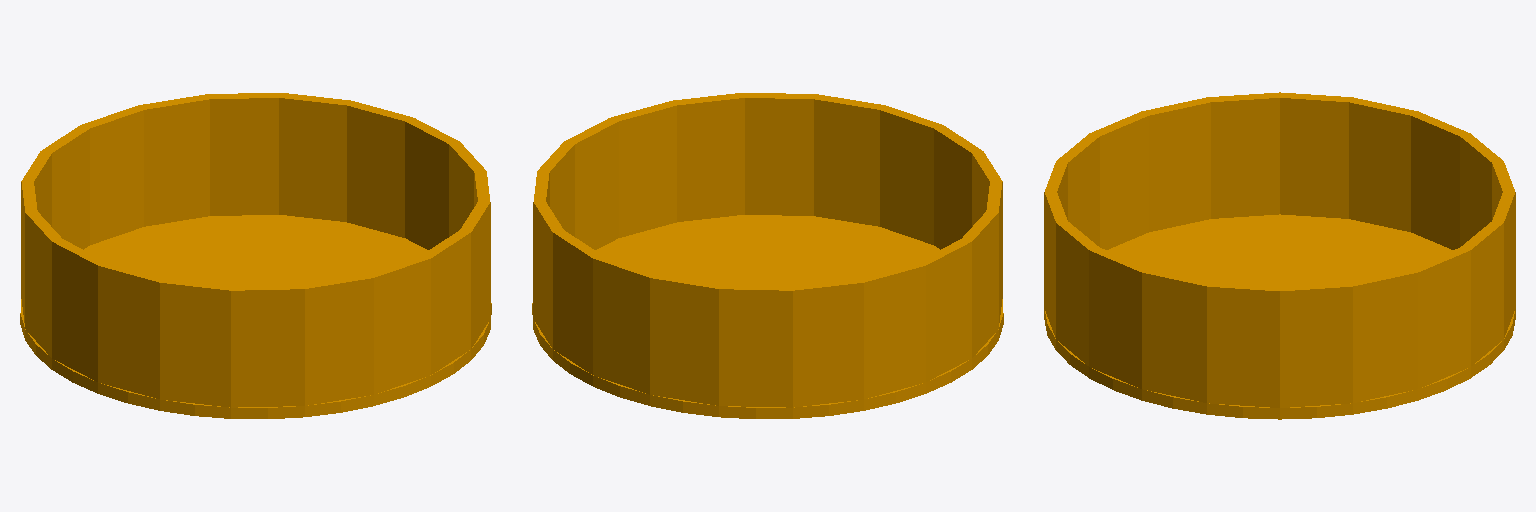
URDF robot description (placement_receiver_v0):
<?xml version='1.0' encoding='utf-8'?>
<robot name="placement_receiver_v0">
  <link name="body">
    <inertial>
      <origin xyz="1.6263032587282567e-18 -2.846030702774449e-18 0.027060295979521608" />
      <mass value="0.4" />
      <inertia ixx="0.003561407502381004" iyy="0.003561407502381005" izz="0.006486271229698463" ixy="-3.546950466627383e-21" ixz="1.2166579486212454e-19" iyz="1.6270062352837805e-20" />
    </inertial>
    <collision>
      <geometry>
        <mesh filename="part_00.obj" />
      </geometry>
    </collision>
    <collision>
      <geometry>
        <mesh filename="part_01.obj" />
      </geometry>
    </collision>
    <collision>
      <geometry>
        <mesh filename="part_02.obj" />
      </geometry>
    </collision>
    <collision>
      <geometry>
        <mesh filename="part_03.obj" />
      </geometry>
    </collision>
    <collision>
      <geometry>
        <mesh filename="part_04.obj" />
      </geometry>
    </collision>
    <collision>
      <geometry>
        <mesh filename="part_05.obj" />
      </geometry>
    </collision>
    <collision>
      <geometry>
        <mesh filename="part_06.obj" />
      </geometry>
    </collision>
    <collision>
      <geometry>
        <mesh filename="part_07.obj" />
      </geometry>
    </collision>
    <collision>
      <geometry>
        <mesh filename="part_08.obj" />
      </geometry>
    </collision>
    <collision>
      <geometry>
        <mesh filename="part_09.obj" />
      </geometry>
    </collision>
    <collision>
      <geometry>
        <mesh filename="part_10.obj" />
      </geometry>
    </collision>
    <collision>
      <geometry>
        <mesh filename="part_11.obj" />
      </geometry>
    </collision>
    <collision>
      <geometry>
        <mesh filename="part_12.obj" />
      </geometry>
    </collision>
    <collision>
      <geometry>
        <mesh filename="part_13.obj" />
      </geometry>
    </collision>
    <collision>
      <geometry>
        <mesh filename="part_14.obj" />
      </geometry>
    </collision>
    <collision>
      <geometry>
        <mesh filename="part_15.obj" />
      </geometry>
    </collision>
    <collision>
      <geometry>
        <mesh filename="part_16.obj" />
      </geometry>
    </collision>
    <collision>
      <geometry>
        <mesh filename="part_17.obj" />
      </geometry>
    </collision>
    <collision>
      <geometry>
        <mesh filename="part_18.obj" />
      </geometry>
    </collision>
    <collision>
      <geometry>
        <mesh filename="part_19.obj" />
      </geometry>
    </collision>
    <collision>
      <geometry>
        <mesh filename="part_20.obj" />
      </geometry>
    </collision>
    <visual>
      <geometry>
        <mesh filename="visual.obj" />
      </geometry>
    </visual>
  </link>
</robot>

--- Facts derived from the render (not from the file) ---
3 views of the same robot in one strip: view 1: azimuth 30°, elevation 25°; view 2: azimuth 150°, elevation 25°; view 3: azimuth 270°, elevation 25° (orthographic).
Model placement_receiver_v0 with 1 links and 0 joints (none), rooted at body, posed every joint at zero.
Visible links, largest first — view 1: body; view 2: body; view 3: body.
Boxes of the visible links, x1=… form: body: x1=20, y1=93, x2=491, y2=418; body: x1=532, y1=93, x2=1003, y2=418; body: x1=1044, y1=92, x2=1515, y2=419.
Size in the robot's own frame: 0.3 by 0.3 by 0.09 metres.
1 mesh visuals loaded from 1 distinct referenced files (1 OBJ).
